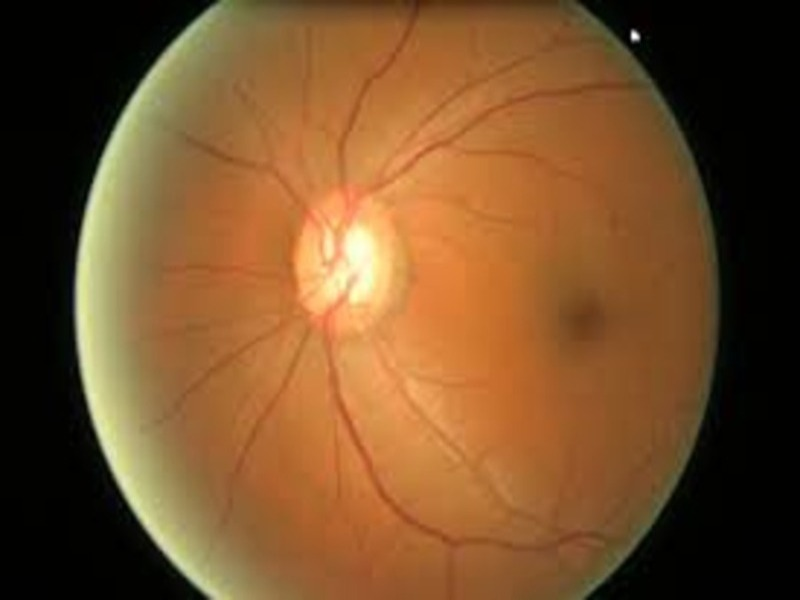Optic Cup: (314, 223, 381, 304)
Optic Disc: (292, 184, 412, 334)
